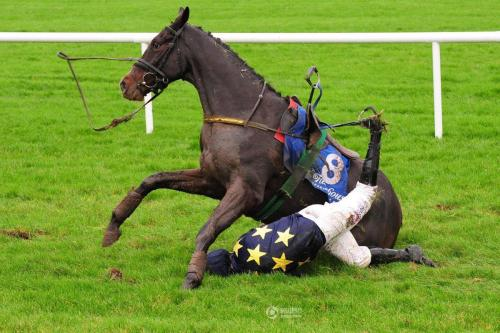fall: (200, 160, 414, 287)
